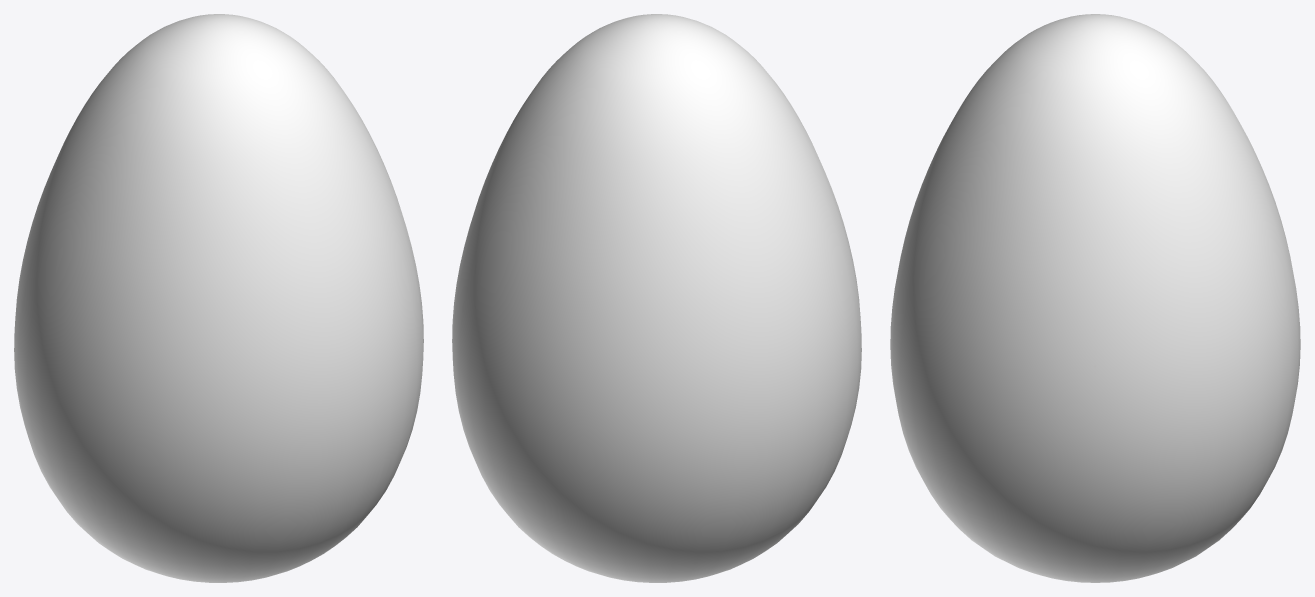
The model's file is egg_1.glb.
The picture shows the model from 3 angles, left to right: view 1: azimuth 30°, elevation 25°; view 2: azimuth 150°, elevation 25°; view 3: azimuth 270°, elevation 25°; orthographic projection.
Visible parts, largest first — view 1: node_id8; view 2: node_id8; view 3: node_id8.
Boxes of the visible parts, bbox=[...] form: node_id8: bbox=[14, 14, 423, 582]; node_id8: bbox=[452, 14, 861, 582]; node_id8: bbox=[890, 14, 1300, 582].
Bounding box in the file's own units: 0.3527 × 0.512 × 0.3527.
1 material, 1 textured.
